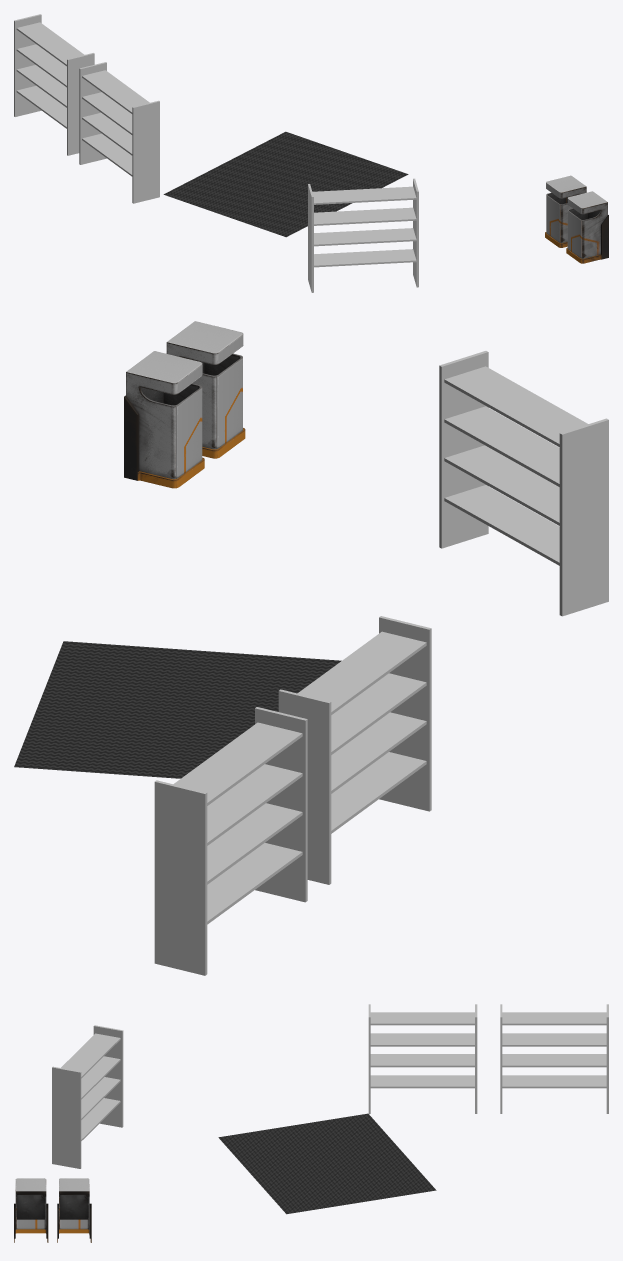
Rendered from PowerFurniture.fbx.
The picture shows the model from 3 angles, top to bottom: view 1: azimuth 30°, elevation 25°; view 2: azimuth 150°, elevation 25°; view 3: azimuth 270°, elevation 25°; orthographic projection. The views are drawn at different scales.
Parts seen in each view (by area): view 1: Cube.097, Plane.009, Bin.014, Bin.013; view 2: Cube.097, Plane.009, Bin.013, Bin.014; view 3: Cube.097, Plane.009, Bin.014, Bin.013.
Boxes of the visible parts, <box> form: Cube.097: <box>14,14,418,292</box>; Plane.009: <box>163,131,408,237</box>; Bin.014: <box>566,191,608,263</box>; Bin.013: <box>545,175,586,247</box>; Cube.097: <box>154,351,608,975</box>; Plane.009: <box>14,641,341,778</box>; Bin.013: <box>124,351,204,488</box>; Bin.014: <box>166,321,245,458</box>; Cube.097: <box>52,1004,608,1168</box>; Plane.009: <box>218,1113,436,1214</box>; Bin.014: <box>14,1178,48,1242</box>; Bin.013: <box>57,1178,91,1242</box>.
Size of the model in its own units: 714 by 218 by 1219.
